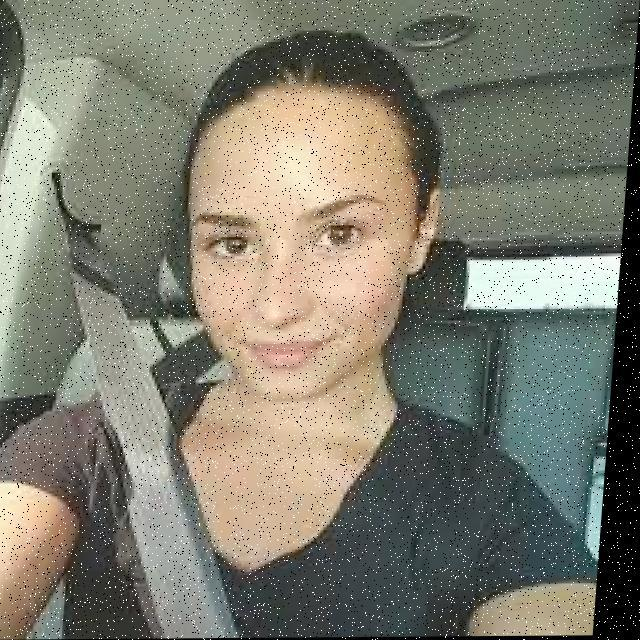seatbelt: (85, 379, 414, 639)
